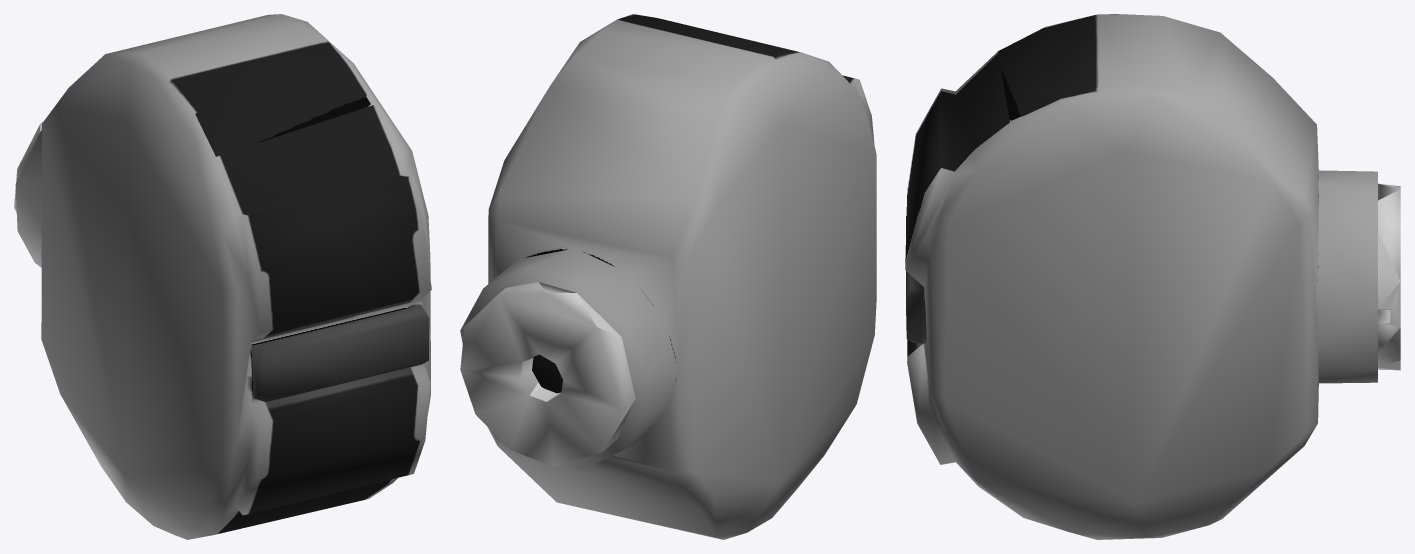
Rendered from r_wrist_roll_link.OBJ.
3 renders of one model, left to right at view 1: azimuth 30°, elevation 25°; view 2: azimuth 150°, elevation 25°; view 3: azimuth 270°, elevation 25°, orthographic.
Parts seen in each view (by area): view 1: /ambf/env/pr2/r_wrist_roll_link_/ambf/env/pr2/r_wrist_roll_link_; view 2: /ambf/env/pr2/r_wrist_roll_link_/ambf/env/pr2/r_wrist_roll_link_; view 3: /ambf/env/pr2/r_wrist_roll_link_/ambf/env/pr2/r_wrist_roll_link_.
Part boxes in pixels (x1=…): /ambf/env/pr2/r_wrist_roll_link_/ambf/env/pr2/r_wrist_roll_link_: x1=14, y1=14, x2=431, y2=539; /ambf/env/pr2/r_wrist_roll_link_/ambf/env/pr2/r_wrist_roll_link_: x1=460, y1=14, x2=876, y2=539; /ambf/env/pr2/r_wrist_roll_link_/ambf/env/pr2/r_wrist_roll_link_: x1=905, y1=14, x2=1400, y2=539.
Size of the model in its own units: 0.0485 by 0.1019 by 0.1008.
